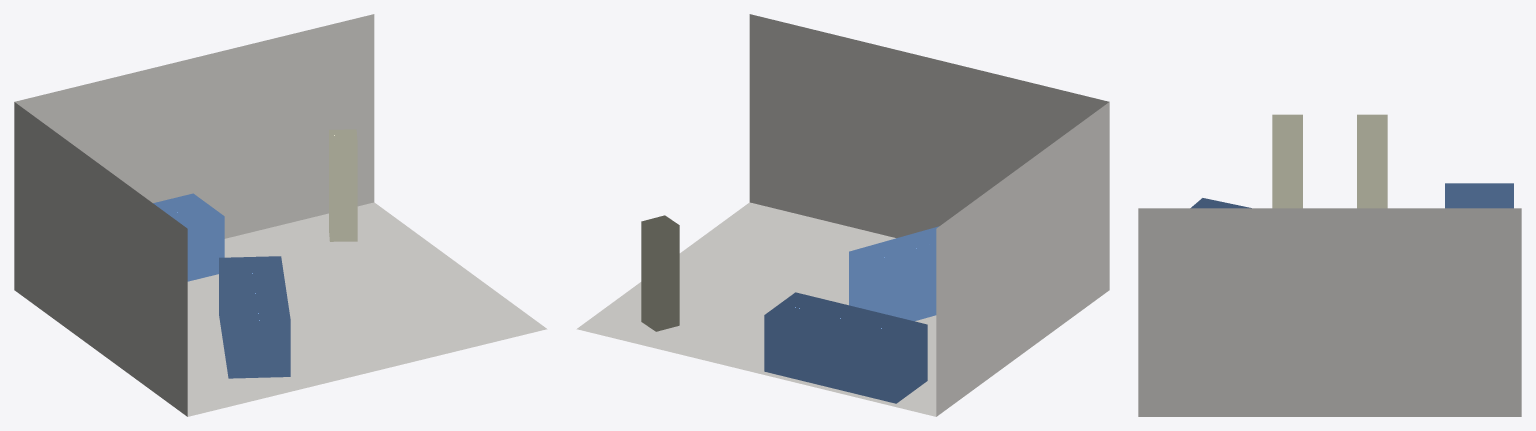
3 renders of one model, left to right at view 1: azimuth 30°, elevation 25°; view 2: azimuth 150°, elevation 25°; view 3: azimuth 270°, elevation 25°, orthographic. The views are drawn at different scales.
Visible parts, largest first — view 1: Room, blue_sofa_1_mesh, blue_sofa_0_mesh, floor_lamp_1_mesh; view 2: Room, blue_sofa_0_mesh, blue_sofa_1_mesh, floor_lamp_1_mesh; view 3: Room, floor_lamp_0_mesh, floor_lamp_2_mesh, blue_sofa_0_mesh, blue_sofa_1_mesh.
Boxes of the visible parts, <box> form: Room: <box>14,14,547,416</box>; blue_sofa_1_mesh: <box>219,256,290,378</box>; blue_sofa_0_mesh: <box>153,193,224,281</box>; floor_lamp_1_mesh: <box>329,129,357,241</box>; Room: <box>576,14,1109,416</box>; blue_sofa_0_mesh: <box>764,292,927,403</box>; blue_sofa_1_mesh: <box>849,226,938,321</box>; floor_lamp_1_mesh: <box>641,215,679,331</box>; Room: <box>1138,208,1521,416</box>; floor_lamp_0_mesh: <box>1357,114,1387,208</box>; floor_lamp_2_mesh: <box>1272,114,1302,208</box>; blue_sofa_0_mesh: <box>1445,183,1513,208</box>; blue_sofa_1_mesh: <box>1190,198,1251,208</box>.
Size of the model in its own units: 6 by 3 by 5.
